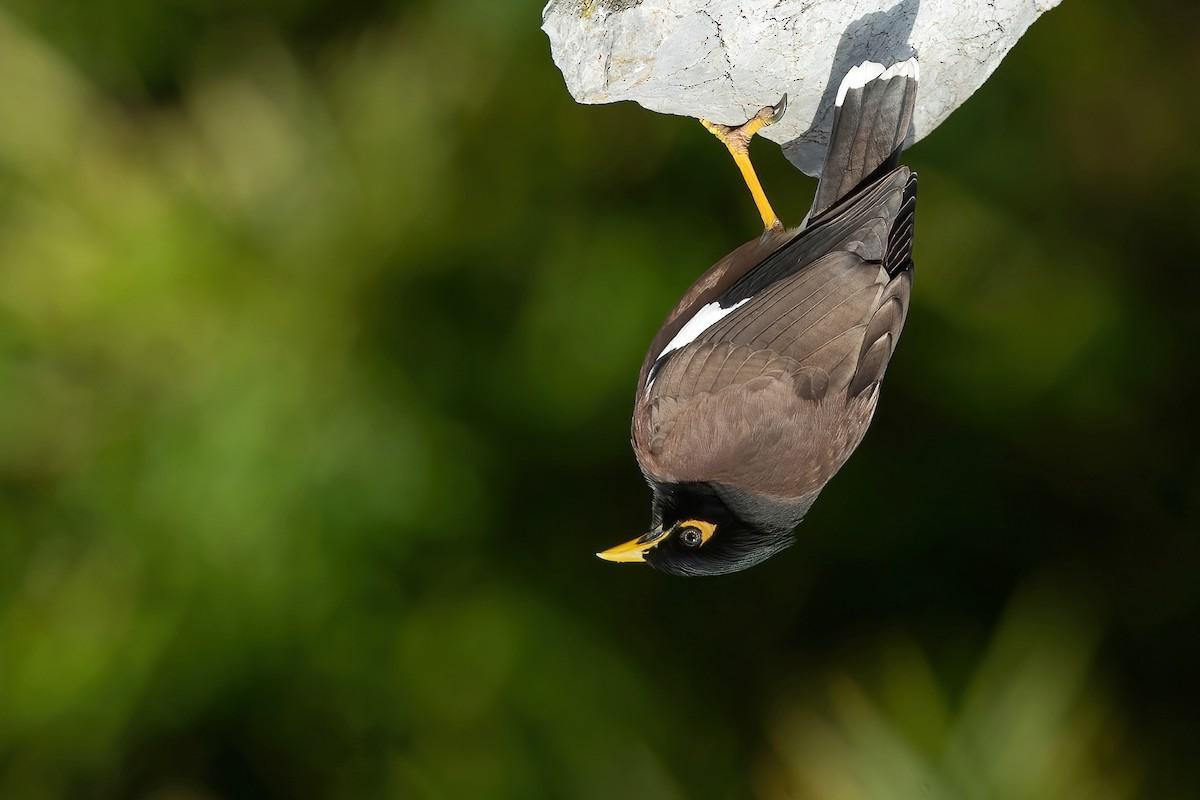myna: (566, 107, 1017, 602)
